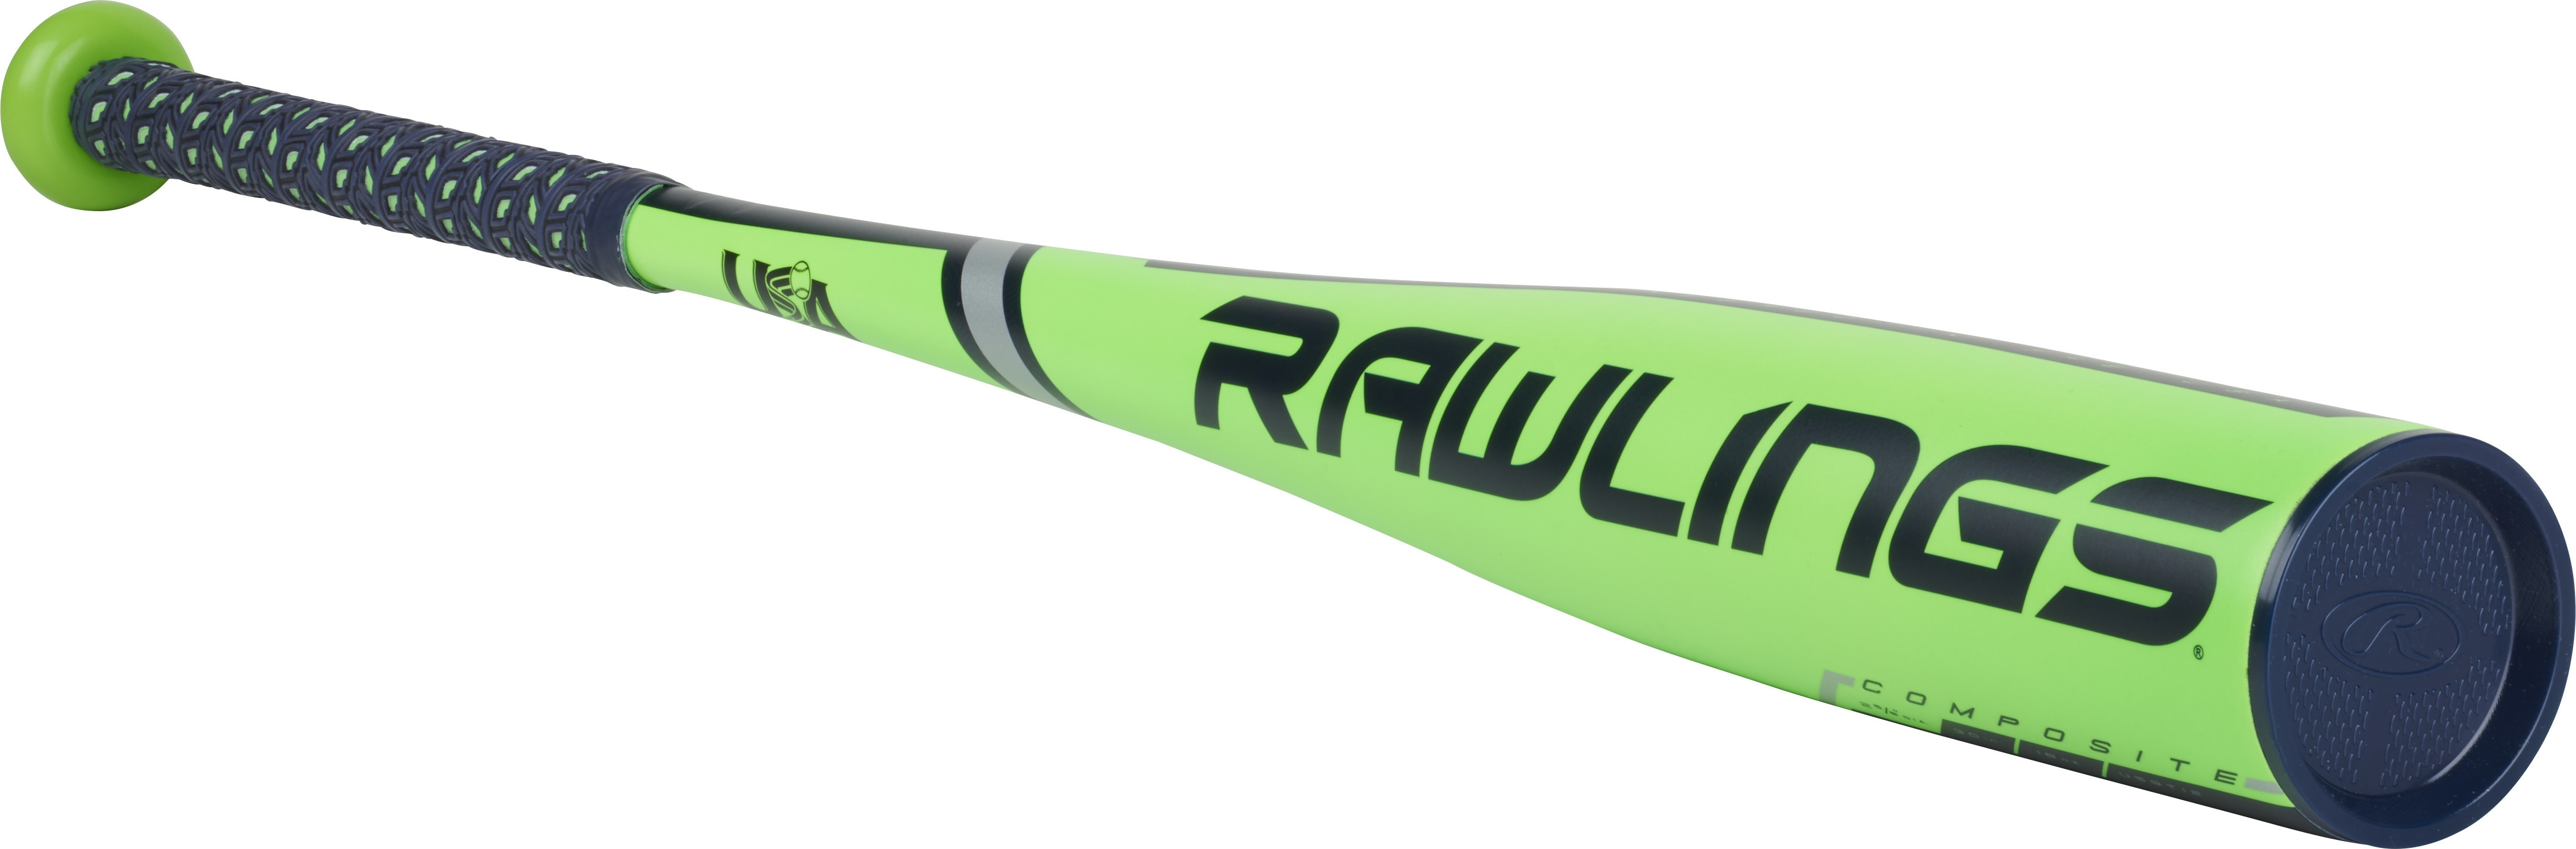bita: (0, 28, 2527, 847)
